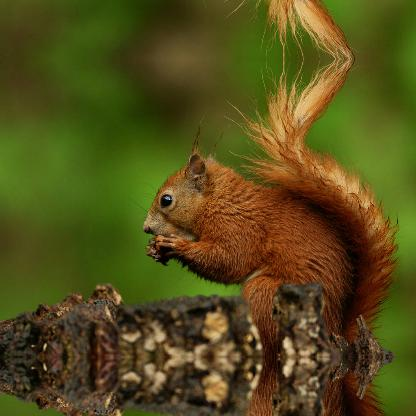Squirrel: (124, 58, 396, 354)
